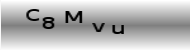8: (41, 15, 54, 29)
C: (25, 7, 39, 22)
M: (64, 10, 83, 24)
u: (110, 23, 125, 35)
v: (90, 21, 104, 33)
